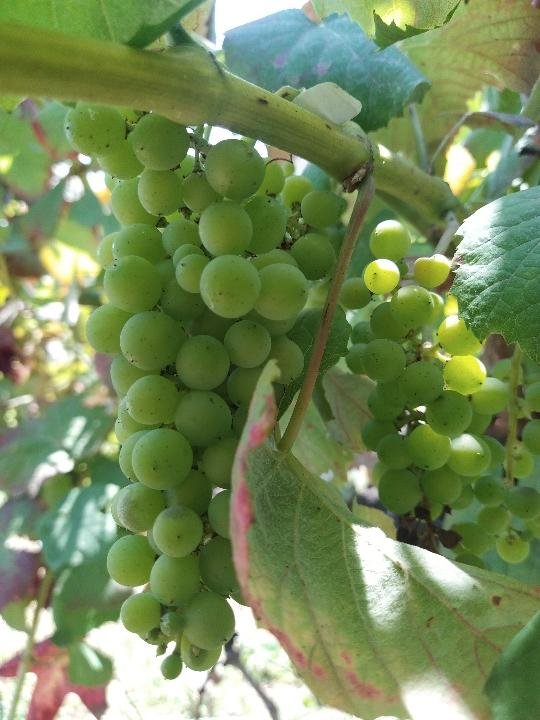grape: (65, 103, 348, 682), (349, 220, 508, 554)
